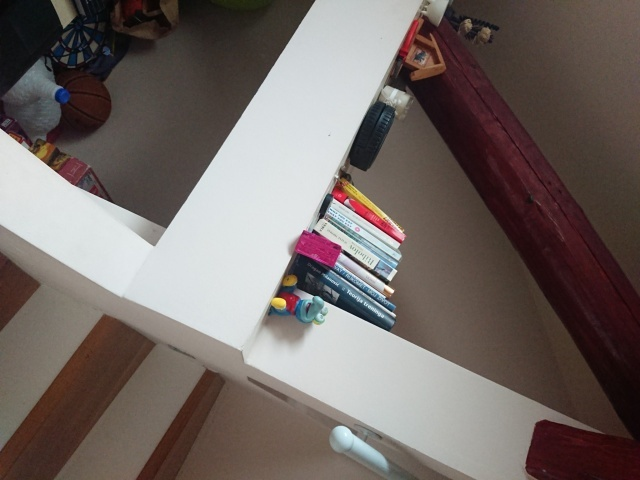Barcaffe Classic Original 225g: (293, 228, 343, 271)
